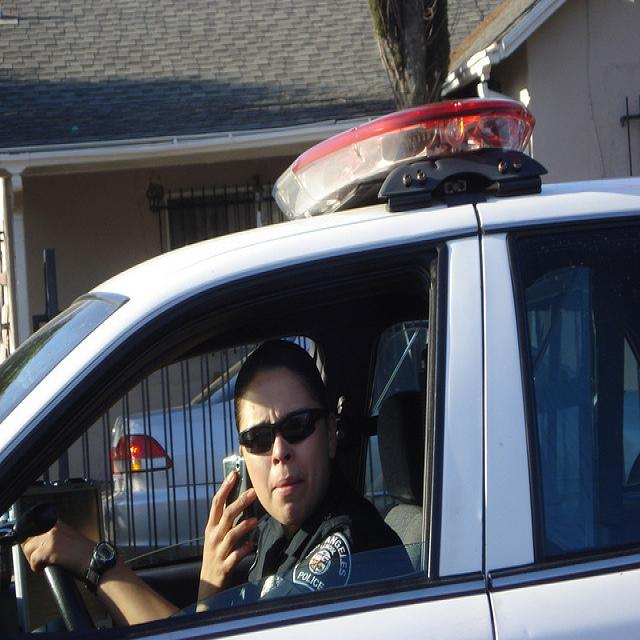Vehicle: (6, 100, 640, 637)
